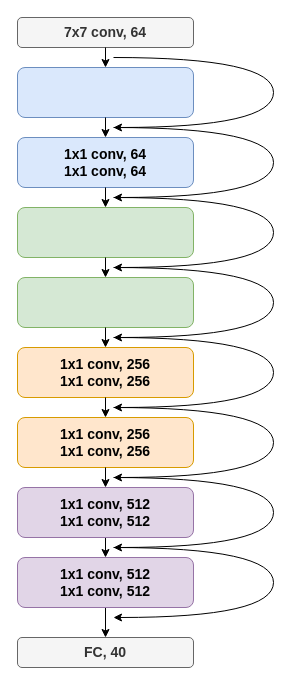
Image size: 291x685. Some labels were removed from this diagram. Here are the shapes that lost their labels. From the top down, the box of each, then its label:
(16, 66, 194, 118): 1x1 conv, 64 3x3 conv, 64
(16, 206, 194, 258): 1x1 conv, 128 3x3 conv, 128
(16, 276, 194, 328): 1x1 conv, 128 1x1 conv, 128
